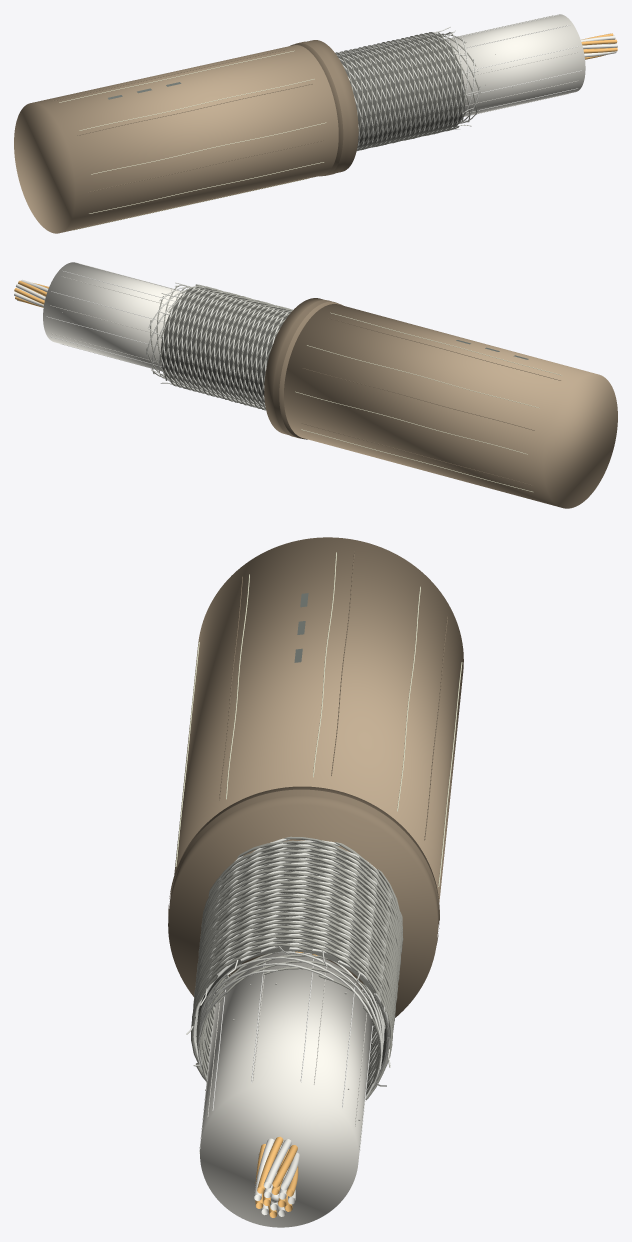
The model's file is rf-rg400-macro.glb.
3 views of the same model, one above another, from view 1: azimuth 30°, elevation 25°; view 2: azimuth 150°, elevation 25°; view 3: azimuth 270°, elevation 25° (orthographic). The views are drawn at different scales.
Parts seen in each view (by area): view 1: macro jacket body, macro dielectric exposed core, shadow seen through braid windows, thick jacket cut wall, rounded jacket cut lip, macro braid shadow carrier 06 strand 1, macro braid shadow carrier 07 strand 1, macro braid shadow carrier 05 strand 1, macro braid shadow carrier 08 strand 1, macro braid shadow carrier 04 strand 1, macro braid shadow carrier 03 strand 1, macro braid shadow carrier 09 strand 1 (+5 smaller); view 2: macro jacket body, macro dielectric exposed core, shadow seen through braid windows, thick jacket cut wall, rounded jacket cut lip, macro braid shadow carrier 02 strand 1, macro braid shadow carrier 03 strand 1, macro braid shadow carrier 01 strand 1, macro braid shadow carrier 04 strand 1, macro braid shadow carrier 12 strand 1, macro braid shadow carrier 11 strand 1, macro braid shadow carrier 10 strand 1 (+4 smaller); view 3: macro jacket body, macro dielectric exposed core, thick jacket cut wall, shadow seen through braid windows, rounded jacket cut lip, macro braid shadow carrier 10 strand 2, macro braid shadow carrier 05 strand 2, macro braid shadow carrier 08 strand 2, macro braid shadow carrier 04 strand 2, macro braid shadow carrier 09 strand 2, macro braid shadow carrier 06 strand 2, macro braid shadow carrier 07 strand 2 (+5 smaller).
Part boxes in pixels (bbox=[...]): macro jacket body: bbox=[14, 45, 338, 233]; macro dielectric exposed core: bbox=[446, 14, 585, 116]; shadow seen through braid windows: bbox=[337, 34, 465, 147]; thick jacket cut wall: bbox=[290, 40, 358, 176]; rounded jacket cut lip: bbox=[295, 41, 349, 175]; macro braid shadow carrier 06 strand 1: bbox=[361, 33, 442, 150]; macro braid shadow carrier 07 strand 1: bbox=[358, 32, 447, 149]; macro braid shadow carrier 05 strand 1: bbox=[357, 33, 438, 150]; macro braid shadow carrier 08 strand 1: bbox=[370, 32, 452, 147]; macro braid shadow carrier 04 strand 1: bbox=[357, 35, 433, 150]; macro braid shadow carrier 03 strand 1: bbox=[353, 36, 429, 148]; macro braid shadow carrier 09 strand 1: bbox=[376, 42, 457, 146]; macro jacket body: bbox=[284, 304, 617, 508]; macro dielectric exposed core: bbox=[43, 262, 183, 370]; shadow seen through braid windows: bbox=[161, 287, 290, 406]; thick jacket cut wall: bbox=[264, 298, 343, 439]; rounded jacket cut lip: bbox=[273, 300, 337, 438]; macro braid shadow carrier 02 strand 1: bbox=[173, 293, 289, 402]; macro braid shadow carrier 03 strand 1: bbox=[168, 292, 286, 401]; macro braid shadow carrier 01 strand 1: bbox=[178, 294, 292, 403]; macro braid shadow carrier 04 strand 1: bbox=[164, 291, 288, 399]; macro braid shadow carrier 12 strand 1: bbox=[183, 295, 292, 405]; macro braid shadow carrier 11 strand 1: bbox=[187, 297, 290, 406]; macro braid shadow carrier 10 strand 1: bbox=[192, 298, 285, 407]; macro jacket body: bbox=[174, 537, 463, 901]; macro dielectric exposed core: bbox=[200, 952, 372, 1227]; thick jacket cut wall: bbox=[168, 786, 439, 1017]; shadow seen through braid windows: bbox=[196, 842, 387, 1089]; rounded jacket cut lip: bbox=[168, 789, 439, 944]; macro braid shadow carrier 10 strand 2: bbox=[192, 845, 400, 1021]; macro braid shadow carrier 05 strand 2: bbox=[193, 876, 402, 1056]; macro braid shadow carrier 08 strand 2: bbox=[193, 837, 401, 1010]; macro braid shadow carrier 04 strand 2: bbox=[194, 872, 397, 1098]; macro braid shadow carrier 09 strand 2: bbox=[192, 840, 400, 1017]; macro braid shadow carrier 06 strand 2: bbox=[196, 869, 403, 1010]; macro braid shadow carrier 07 strand 2: bbox=[194, 842, 402, 1000].
Size of the model in its own units: 6.45 by 1.36 by 1.48.
